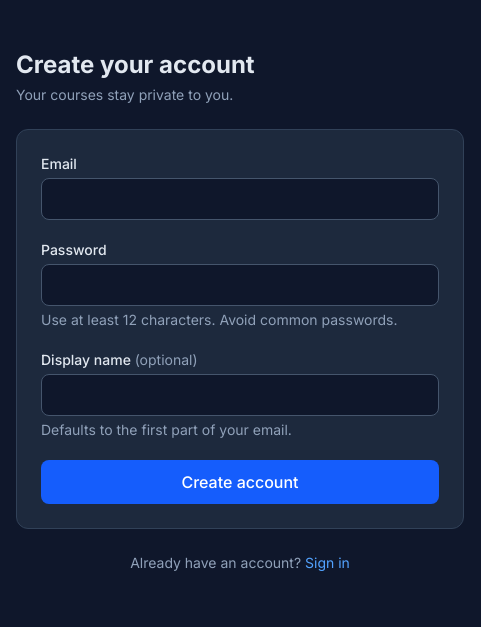
Register page › reports a connection problem distinctly from a rejected password
Type "ada@example.com" into the field labelled "Email" at (240, 199), box [41,178,439,220]
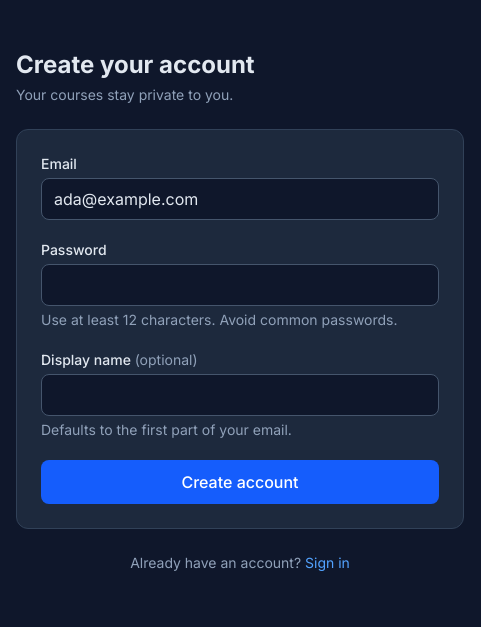
Type "correct horse battery" into the password field labelled "Password" at (240, 285), box [41,264,439,306]
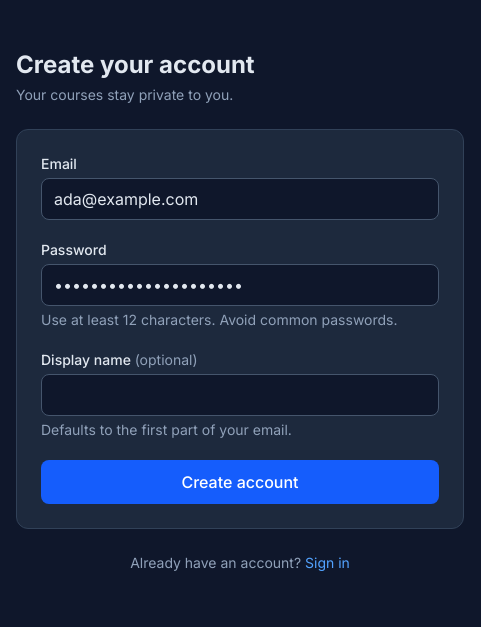
Click the button "Create account" at (240, 482), box [41,460,439,504]
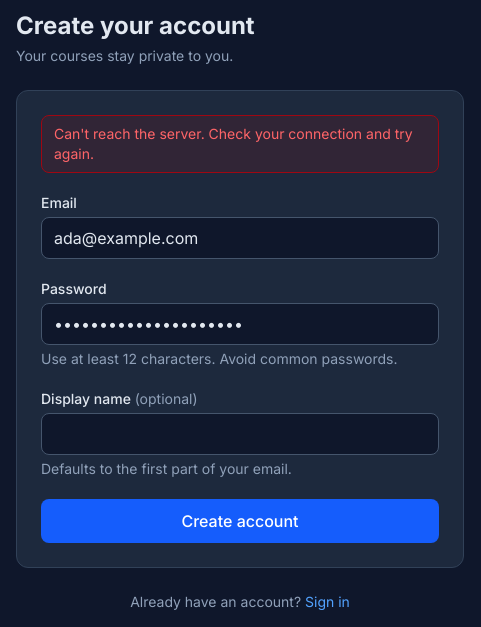
Expected: the button "Create account" is enabled, [41,499,439,543]
Expected: the message shows "Can't reach the server", [54,125,413,162]
